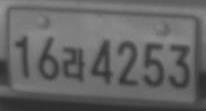1: (13, 34, 34, 78)
2: (117, 39, 138, 87)
3: (168, 43, 191, 89)
4: (89, 38, 115, 84)
5: (140, 43, 166, 87)
6: (37, 36, 61, 80)
라: (62, 46, 86, 82)
